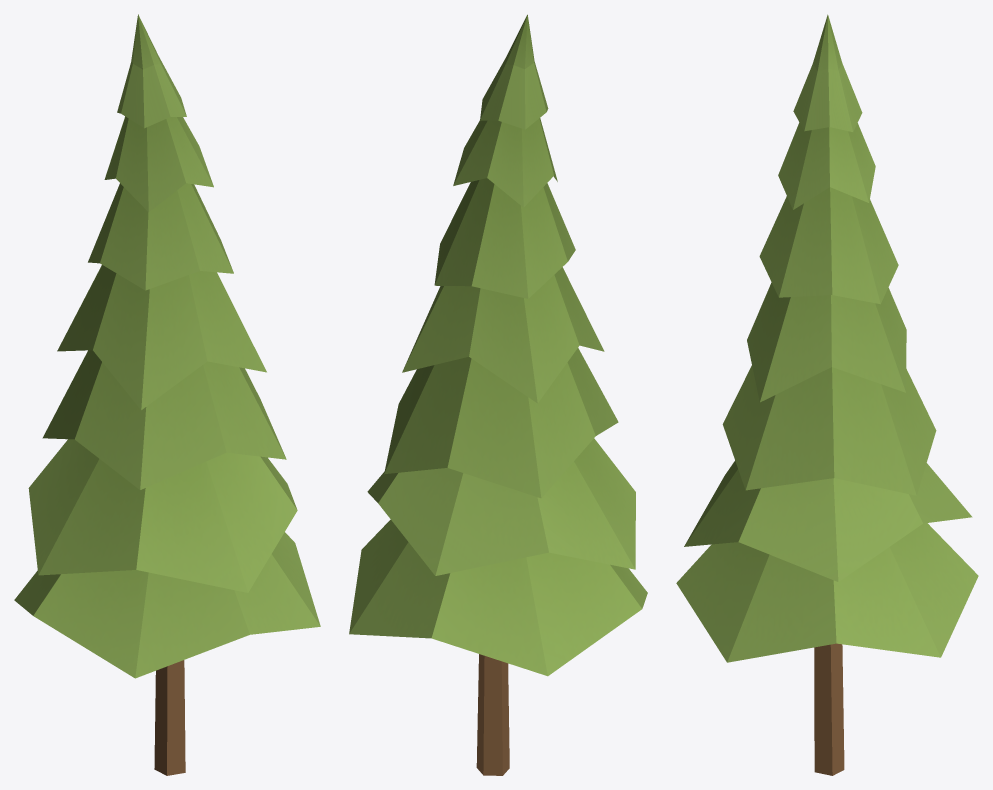
The model's file is Pine_Tree_OneSided_l_04_LOD.fbx.
The picture shows the model from 3 angles, left to right: view 1: azimuth 30°, elevation 25°; view 2: azimuth 150°, elevation 25°; view 3: azimuth 270°, elevation 25°; orthographic projection. The views are drawn at different scales.
Parts seen in each view (by area): view 1: Pine_Tree_OneSided_l_04_LOD0; view 2: Pine_Tree_OneSided_l_04_LOD0; view 3: Pine_Tree_OneSided_l_04_LOD0.
Boxes of the visible parts, left/top/right/bottom form: Pine_Tree_OneSided_l_04_LOD0: left=14, top=14, right=320, bottom=775; Pine_Tree_OneSided_l_04_LOD0: left=349, top=14, right=647, bottom=775; Pine_Tree_OneSided_l_04_LOD0: left=676, top=14, right=978, bottom=775.
Size of what is drawn, in the model's own units: 671 by 1805 by 669.
